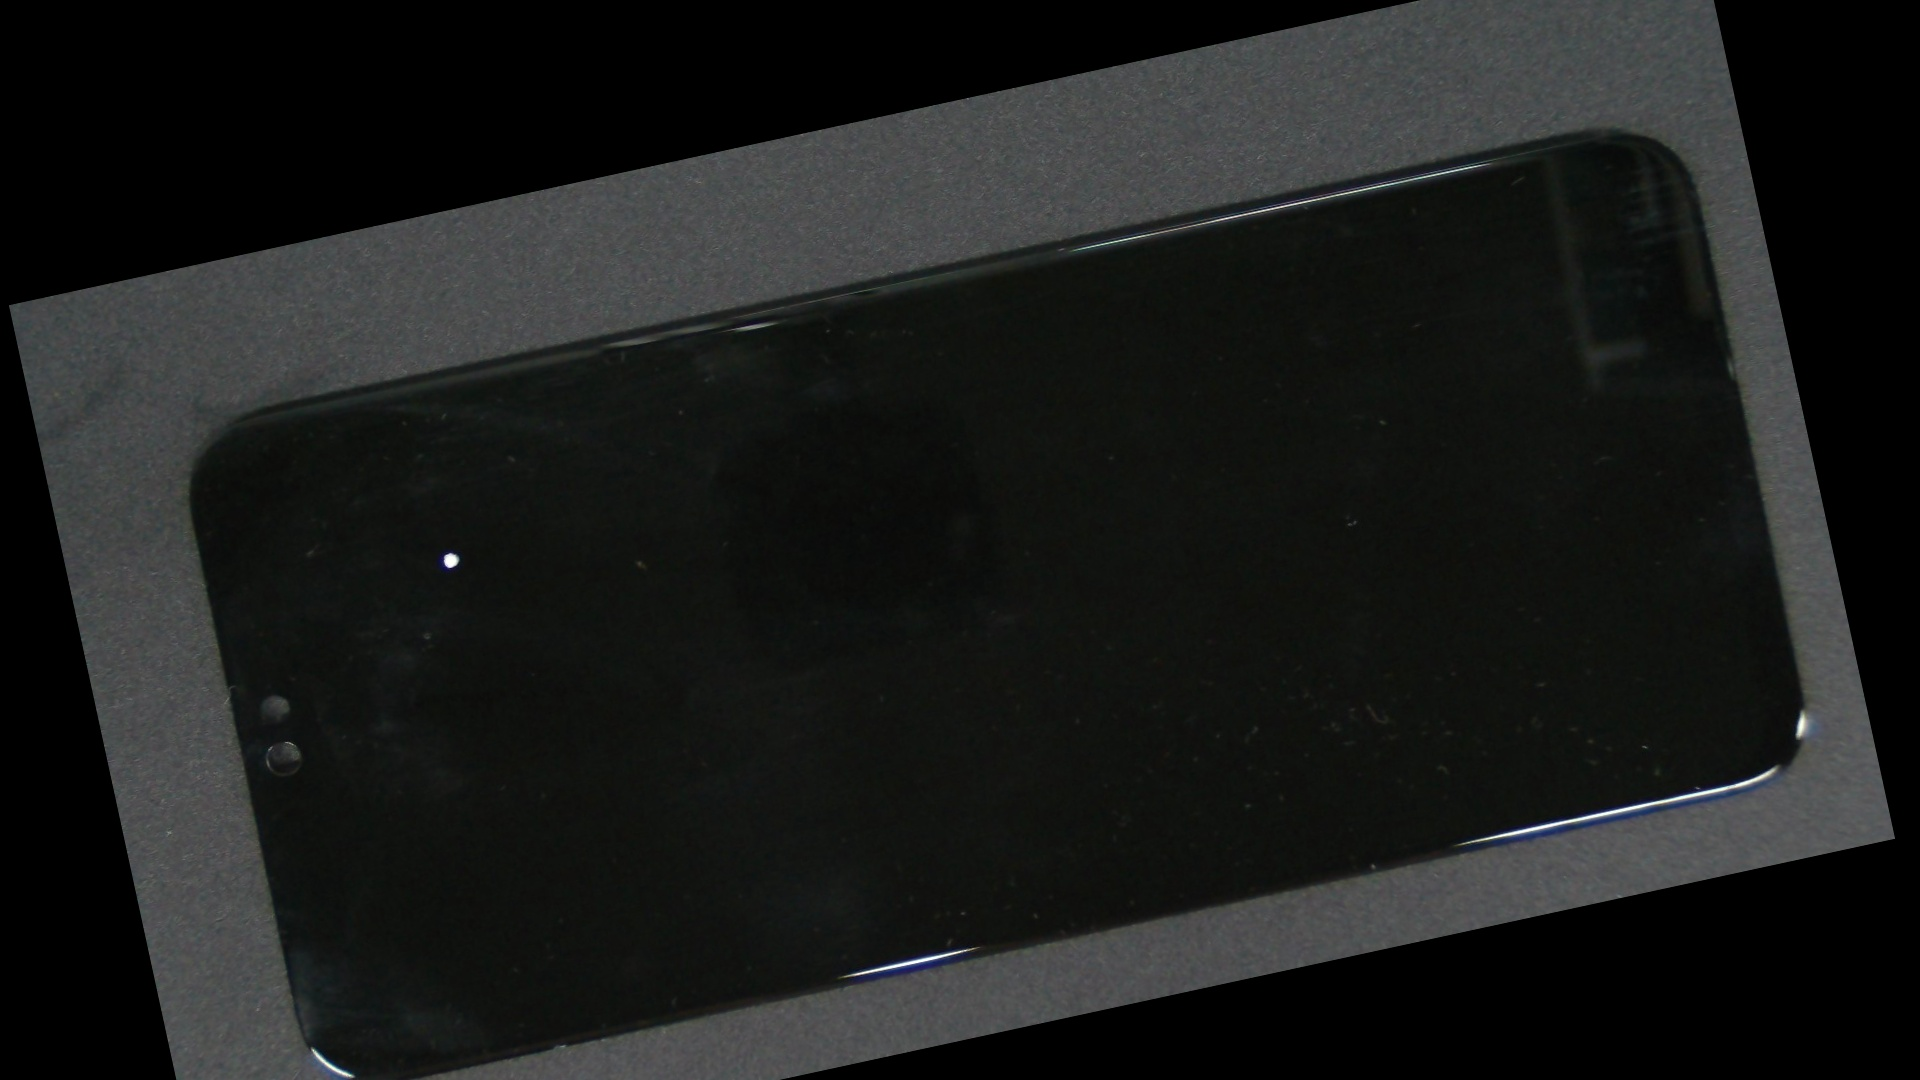oil: (229, 348, 670, 756)
